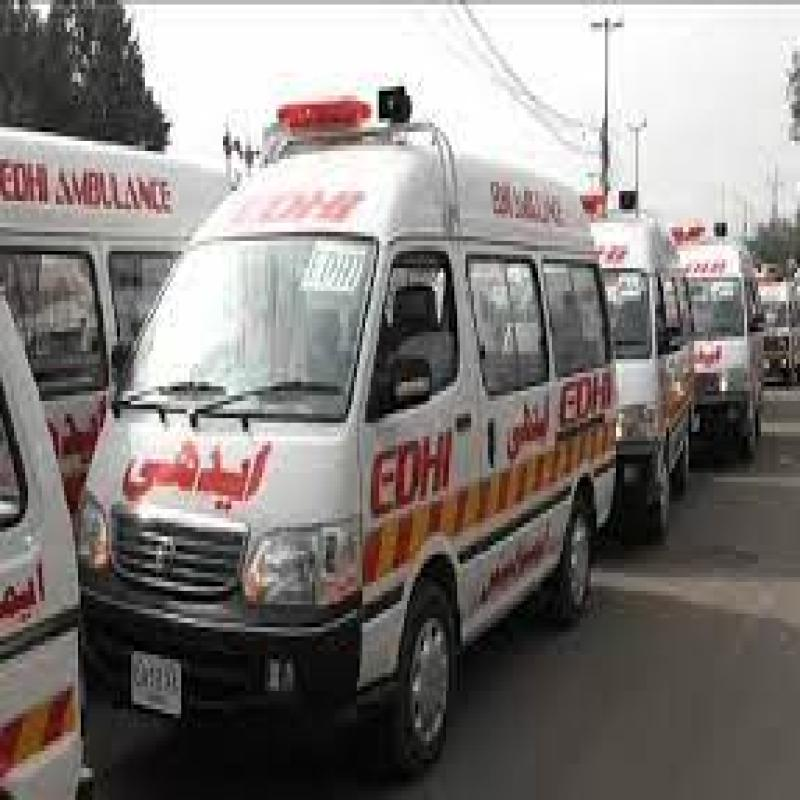ambulance: (75, 165, 600, 722)
